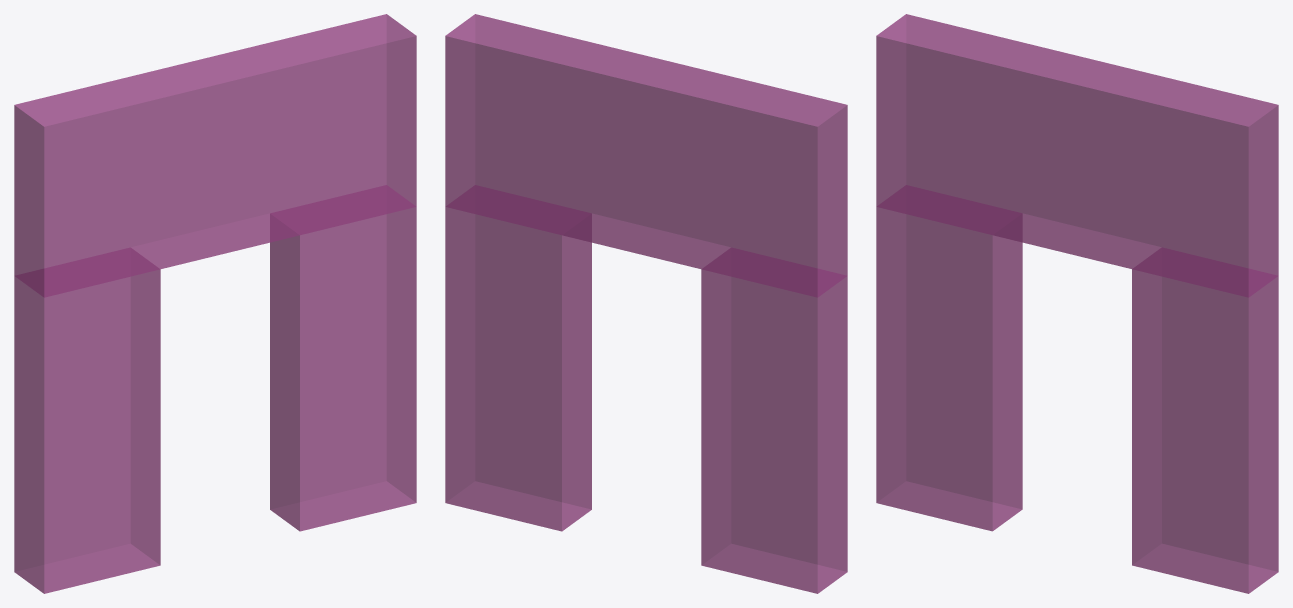
Rendered from SM_Bld_Wall_Door_01_Collision.fbx.
3 renders of one model, left to right at view 1: azimuth 30°, elevation 25°; view 2: azimuth 150°, elevation 25°; view 3: azimuth 330°, elevation 25°, orthographic.
Parts seen in each view (by area): view 1: SM_Bld_Wall_Door_01_Collision; view 2: SM_Bld_Wall_Door_01_Collision; view 3: SM_Bld_Wall_Door_01_Collision.
Part boxes in pixels (left/top/right/bottom): SM_Bld_Wall_Door_01_Collision: left=14, top=14, right=416, bottom=593; SM_Bld_Wall_Door_01_Collision: left=445, top=14, right=847, bottom=593; SM_Bld_Wall_Door_01_Collision: left=876, top=14, right=1278, bottom=593.
Size of the model in its own units: 252 by 302 by 35.19.
